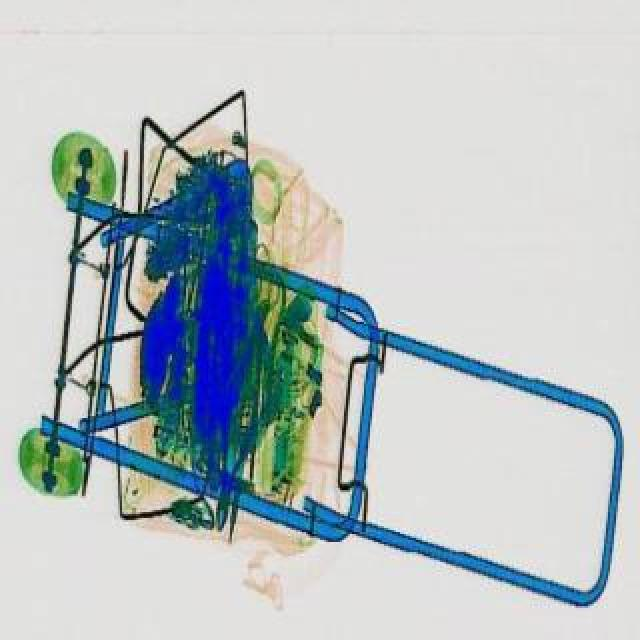wrench: (202, 326, 274, 530)
